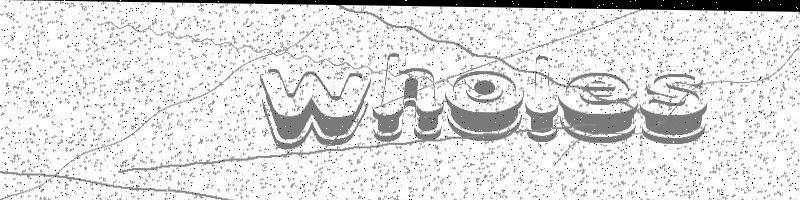e: (557, 65, 639, 144)
h: (369, 48, 447, 147)
l: (524, 51, 561, 142)
o: (443, 64, 527, 143)
s: (638, 67, 711, 145)
w: (256, 64, 371, 149)
